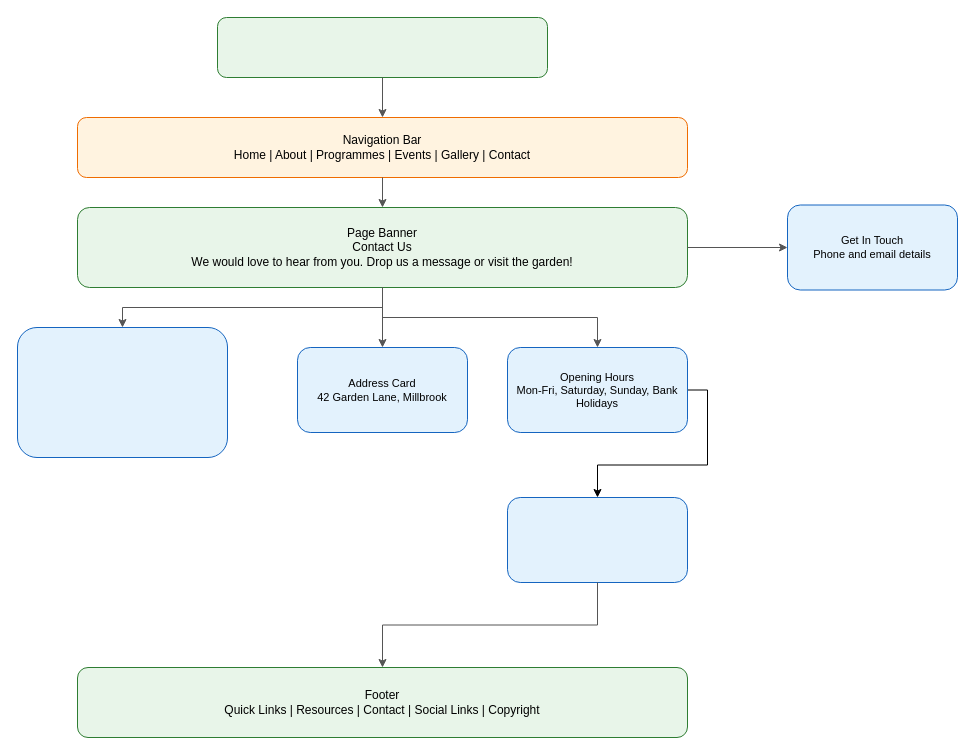
Image size: 975x755. Some labels were removed from this diagram. Here are the shapes that lost their labels. From the top down, the centre of each, then its label:
the point at 382,47: Contact Page (contact.html)
the point at 122,392: Contact Form Name, email, subject, enquiry type, message, send button
the point at 597,539: Embedded Map OpenStreetMap iframe
